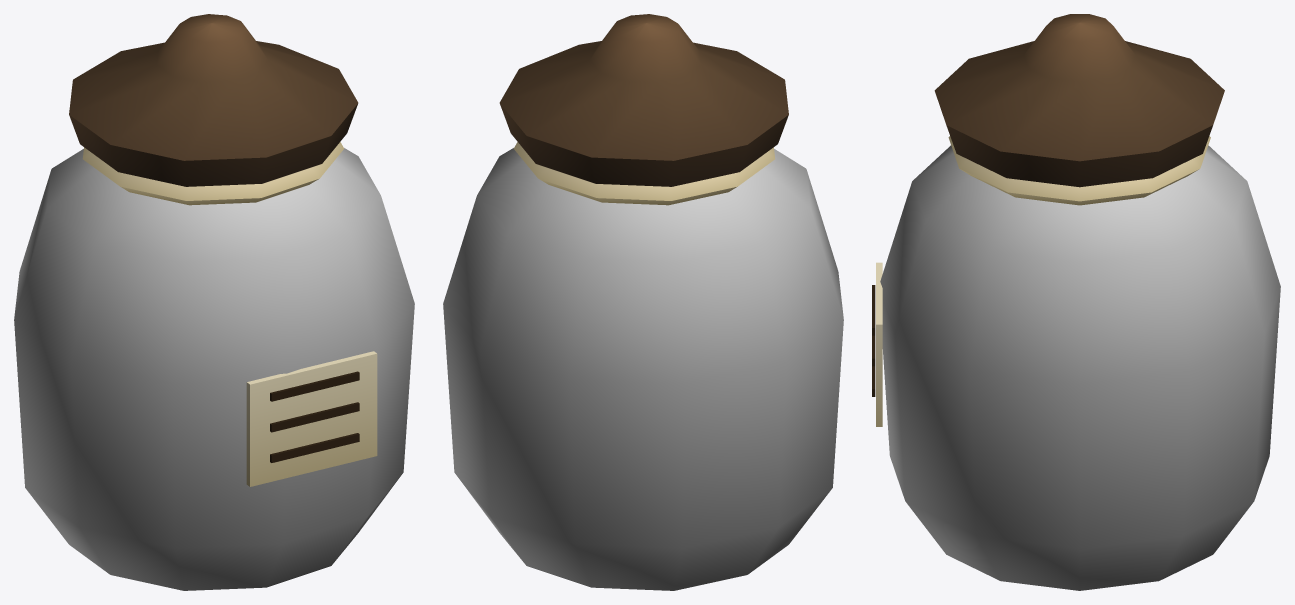
File: cave_jar.glb
3 views of the same model, side by side, from view 1: azimuth 30°, elevation 25°; view 2: azimuth 150°, elevation 25°; view 3: azimuth 270°, elevation 25° (orthographic).
Parts seen in each view (by area): view 1: cave_jar, cave_jar_trim; view 2: cave_jar, cave_jar_trim; view 3: cave_jar, cave_jar_trim.
Part boxes in pixels (<box>): cave_jar: <box>14,148,414,590</box>; cave_jar_trim: <box>69,14,377,486</box>; cave_jar: <box>443,148,843,590</box>; cave_jar_trim: <box>499,14,788,205</box>; cave_jar: <box>880,145,1280,590</box>; cave_jar_trim: <box>872,14,1224,426</box>.
Size of the model in its own units: 0.7054 by 0.99 by 0.7243.
